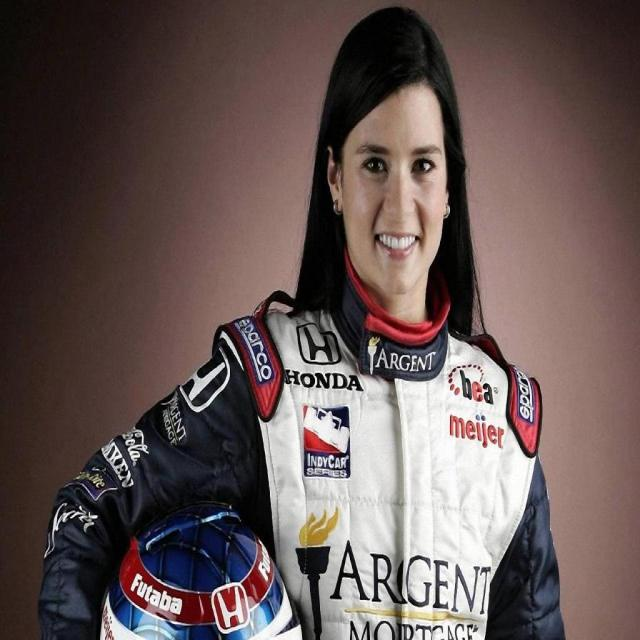Face: (338, 87, 454, 305)
